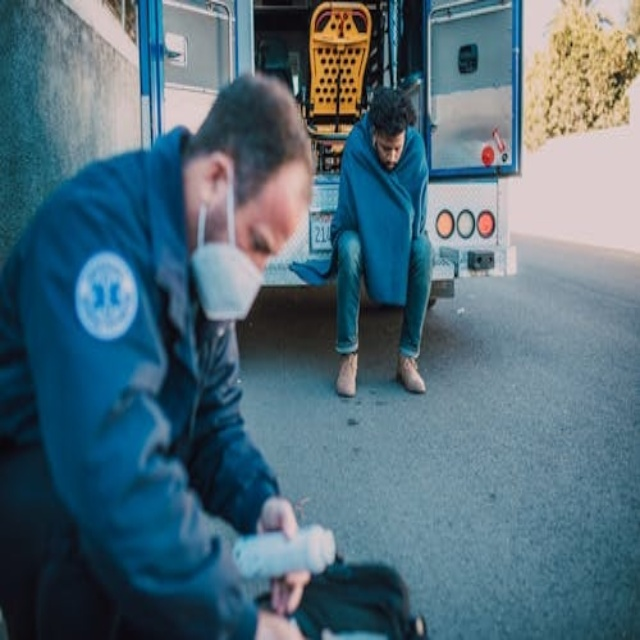Mascara: (189, 162, 267, 323)
Sin_gafas: (237, 208, 287, 267), (374, 131, 407, 156)
Sin_guantes: (246, 480, 315, 615)
